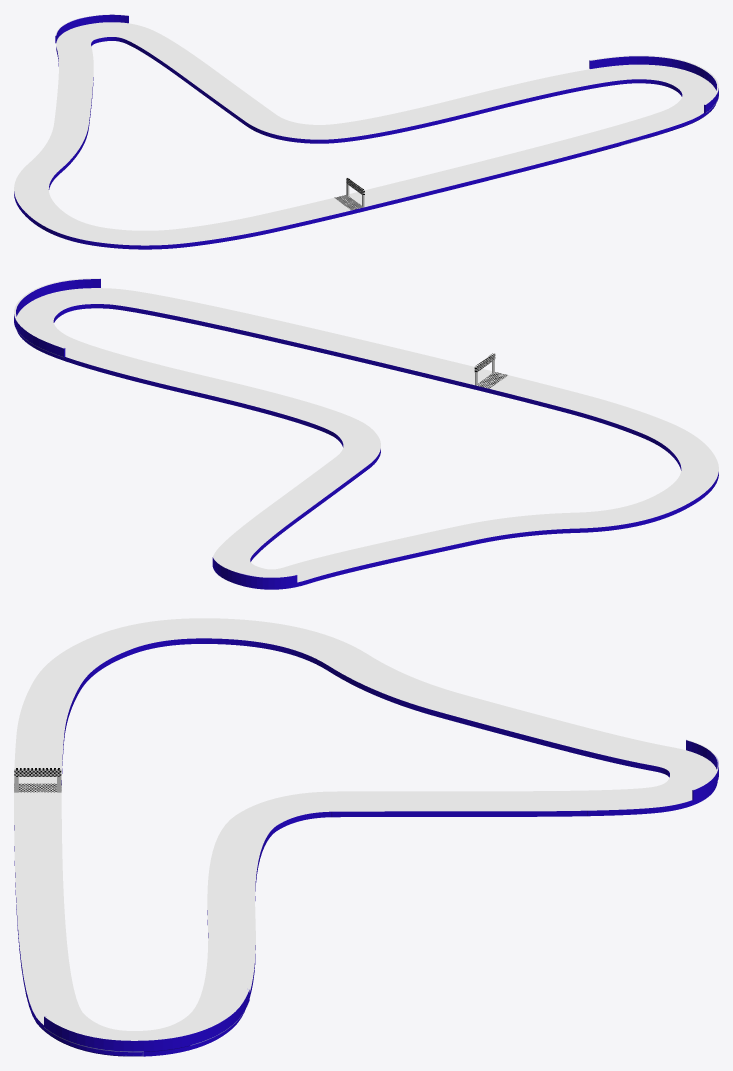
File: track1.glb
3 views of the same model, one above another, from view 1: azimuth 30°, elevation 25°; view 2: azimuth 150°, elevation 25°; view 3: azimuth 270°, elevation 25° (orthographic). The views are drawn at different scales.
Parts seen in each view (by area): view 1: NurbsPath; view 2: NurbsPath; view 3: NurbsPath.
Boxes of the visible parts, left/top/right/bottom form: NurbsPath: left=14, top=14, right=718, bottom=249; NurbsPath: left=14, top=278, right=718, bottom=589; NurbsPath: left=14, top=618, right=718, bottom=1056.
Bounding box in the file's own units: 63.49 × 1.99 × 43.58.
2 materials, 2 textured.
